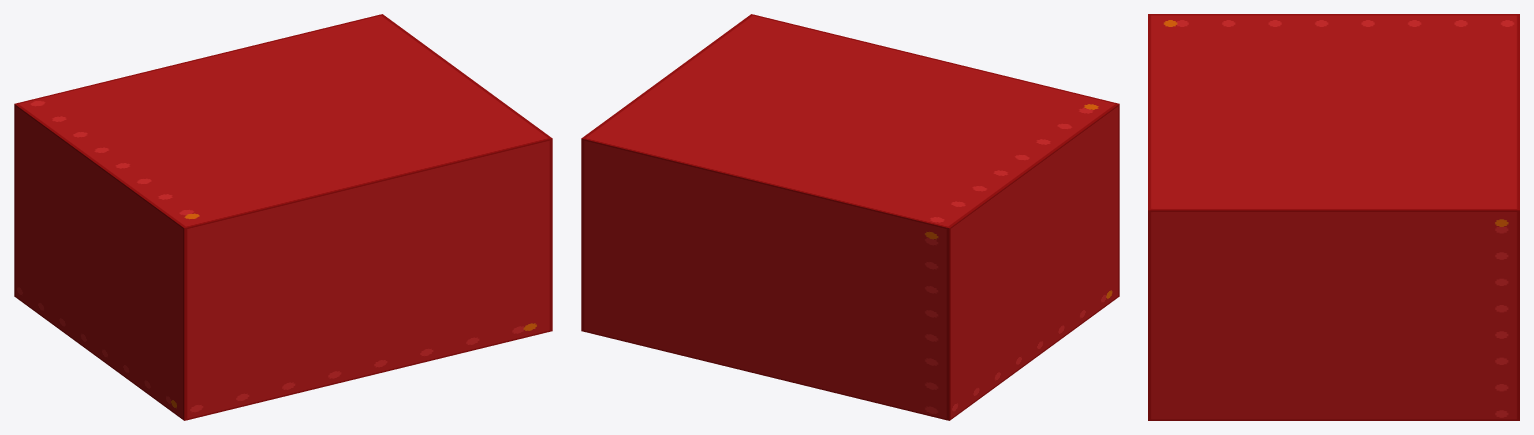
Rendered from FortiGate_600E.gltf.
3 views of the same model, side by side, from view 1: azimuth 30°, elevation 25°; view 2: azimuth 150°, elevation 25°; view 3: azimuth 270°, elevation 25° (orthographic). The views are drawn at different scales.
Visible parts, largest first — view 1: FortiGate_600E; view 2: FortiGate_600E; view 3: FortiGate_600E.
Part boxes in pixels (box(x1,y1,x2,y2)): FortiGate_600E: box(14, 14, 552, 420); FortiGate_600E: box(581, 14, 1119, 420); FortiGate_600E: box(1148, 14, 1519, 420).
Bounding box in the file's own units: 1 × 0.5 × 0.8.
1 material, 1 textured.
